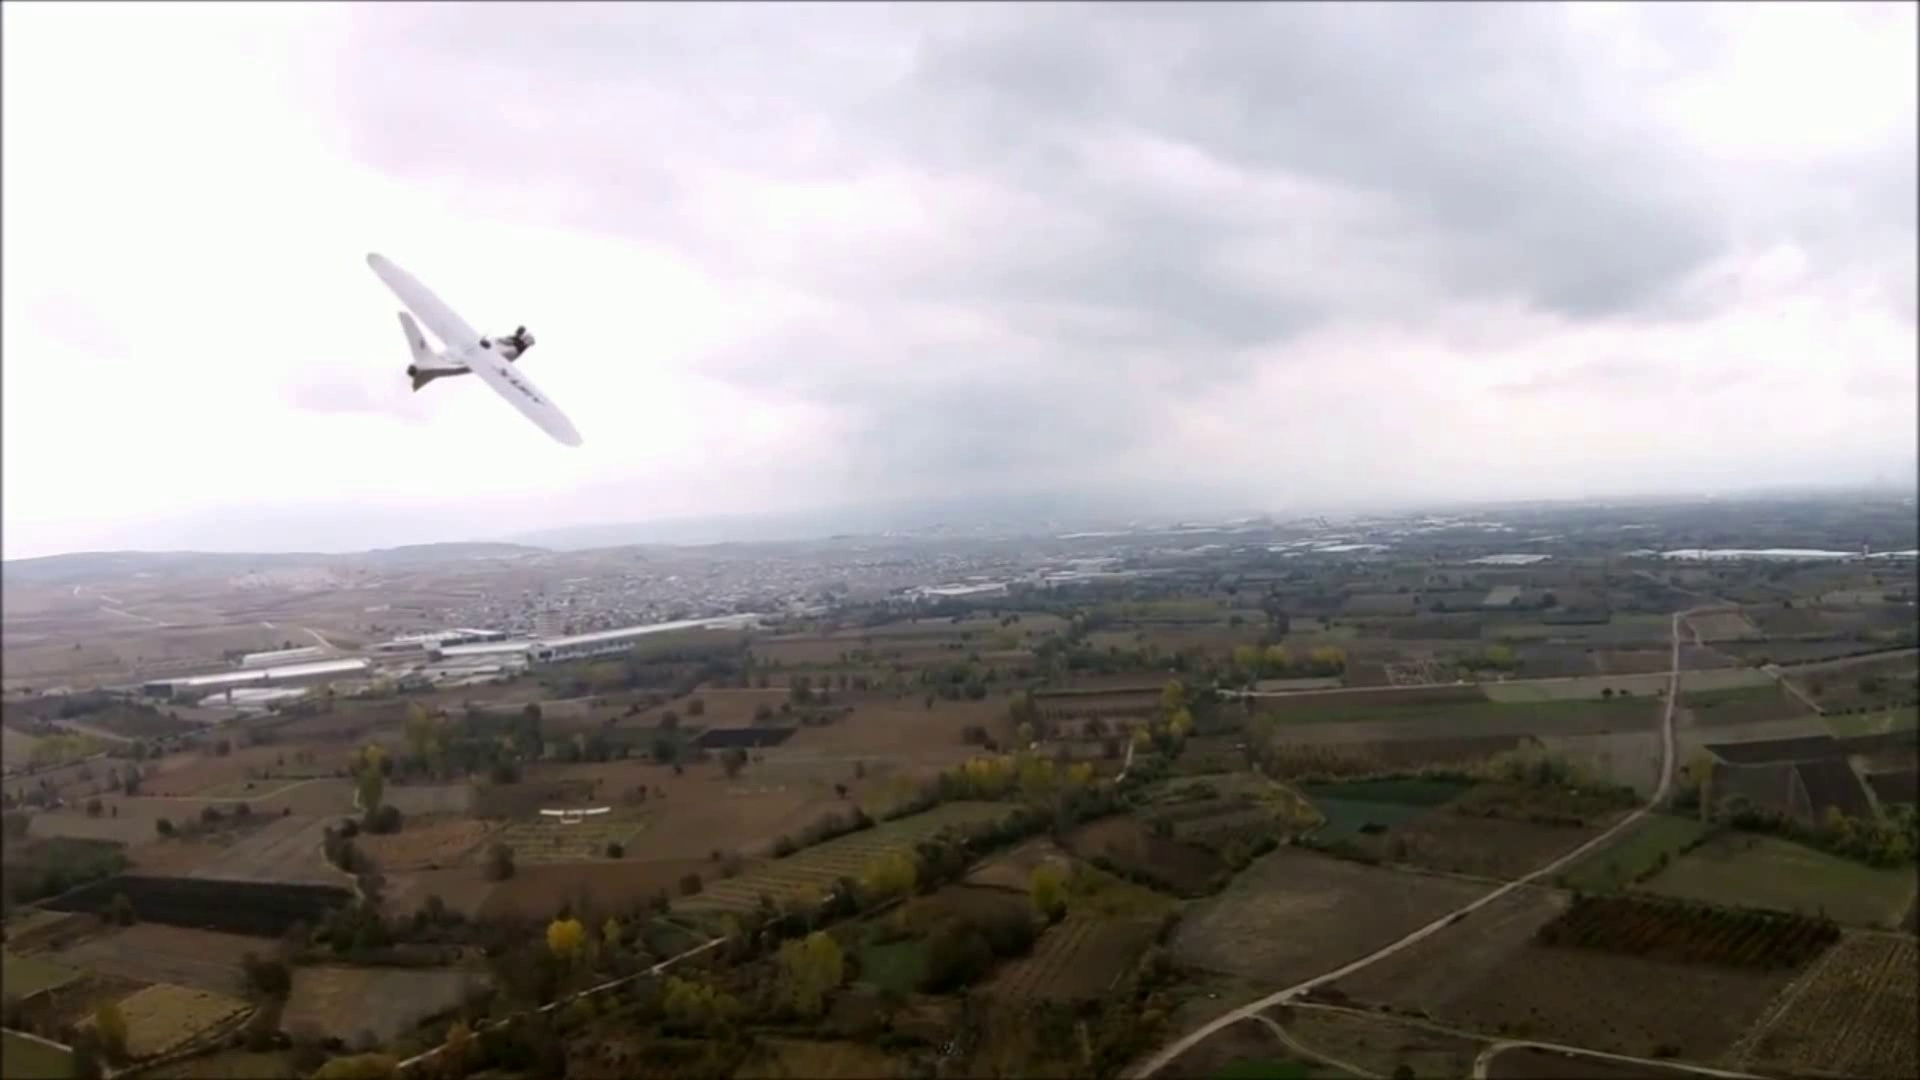airplane: (363, 252, 585, 448)
